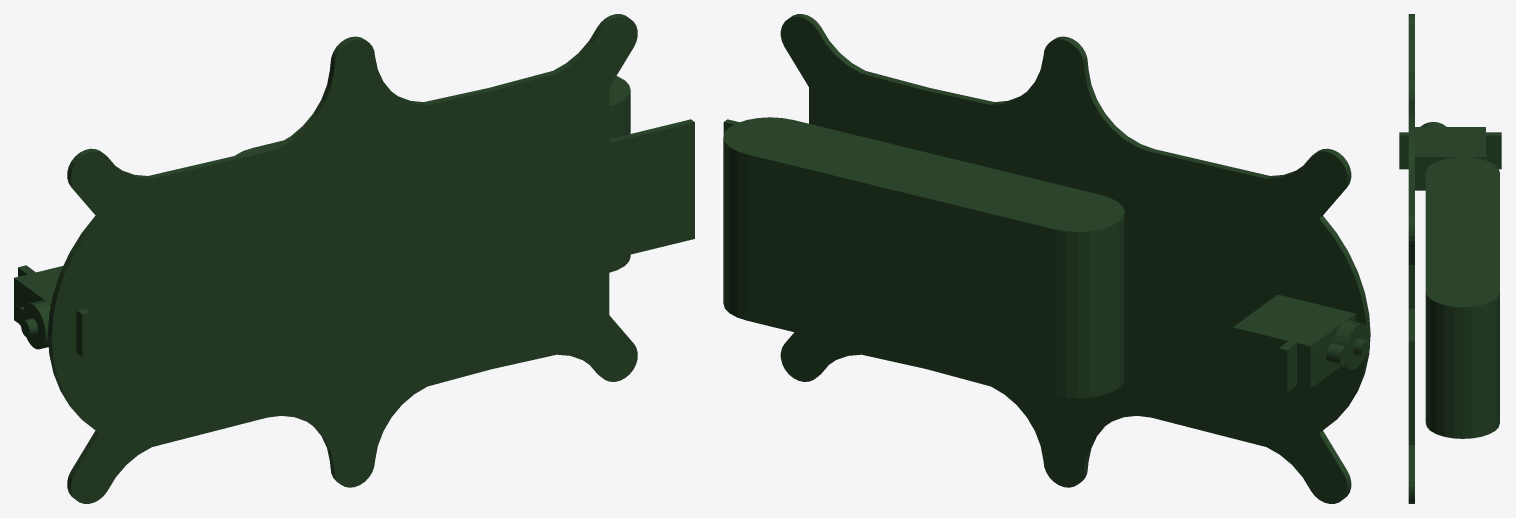
Rendered from ant_body_vis_1.dae.
3 views of the same model, side by side, from view 1: azimuth 30°, elevation 25°; view 2: azimuth 150°, elevation 25°; view 3: azimuth 270°, elevation 25° (orthographic). The views are drawn at different scales.
Visible parts, largest first — view 1: node; view 2: node; view 3: node.
Boxes of the visible parts, x1=… form: node: x1=14, y1=14, x2=694, y2=503; node: x1=723, y1=14, x2=1370, y2=503; node: x1=1399, y1=14, x2=1501, y2=503.
Size of the model in its own units: 0.29 by 0.1895 by 0.0495.
